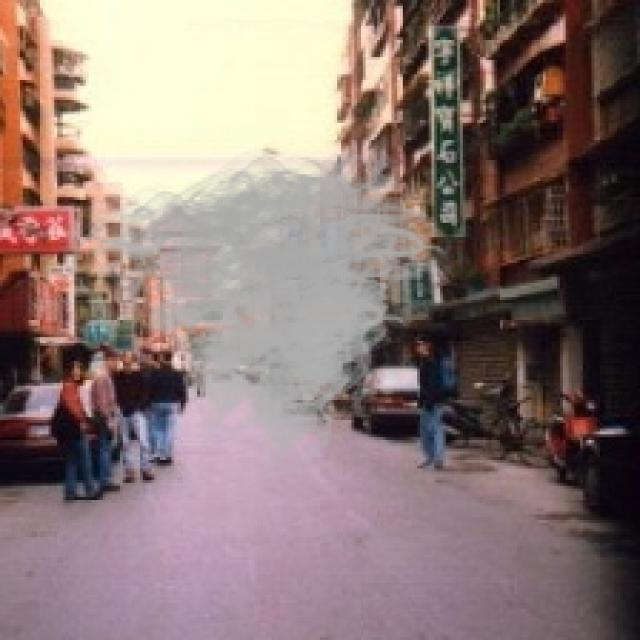smoke: (57, 131, 463, 480)
